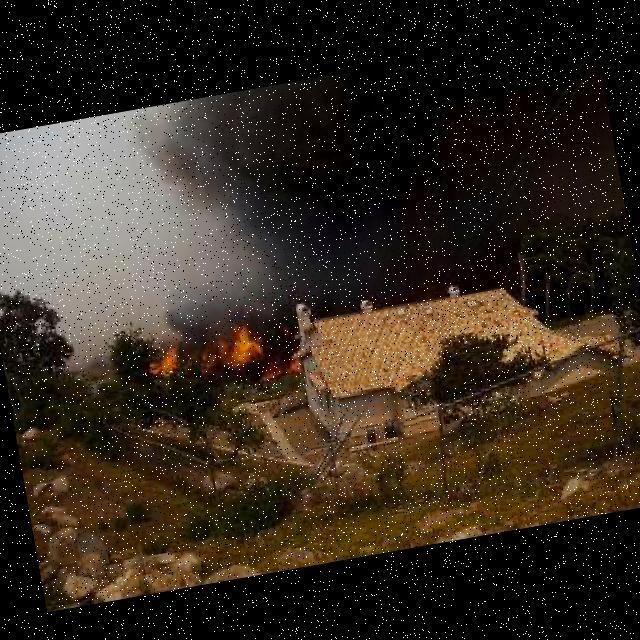Fire: (140, 313, 270, 399)
Smoke: (133, 35, 583, 326), (172, 302, 226, 373)
